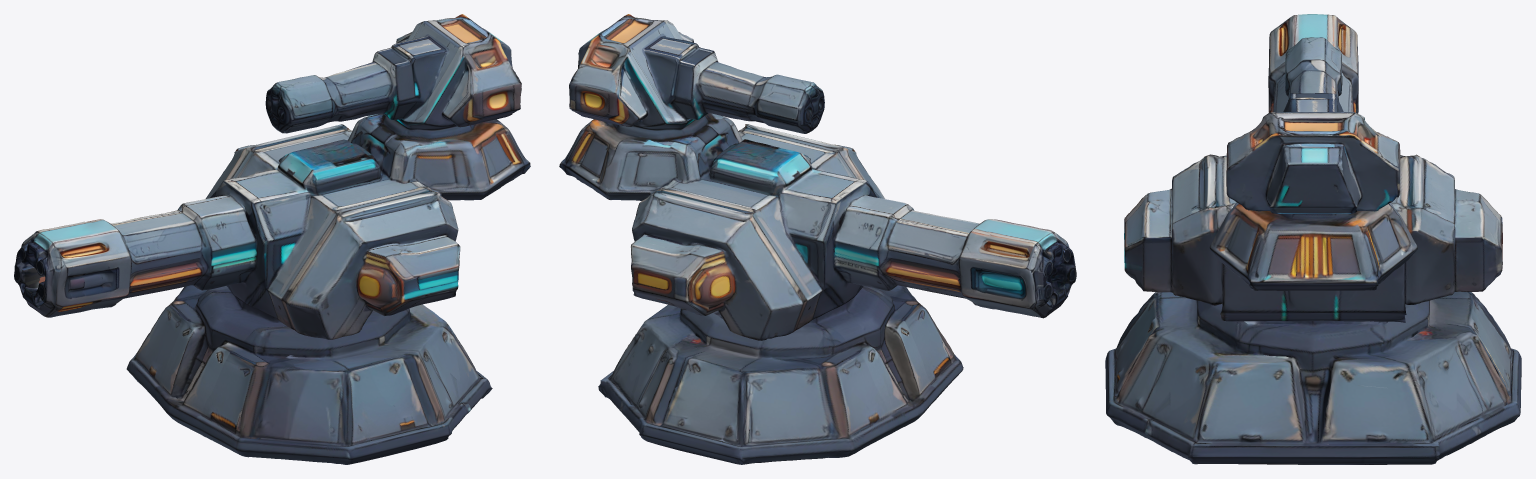
Rendered from basic_tower.glb.
The picture shows the model from 3 angles, left to right: view 1: azimuth 30°, elevation 25°; view 2: azimuth 150°, elevation 25°; view 3: azimuth 270°, elevation 25°; orthographic projection. The views are drawn at different scales.
Parts seen in each view (by area): view 1: geometry_0; view 2: geometry_0; view 3: geometry_0.
Part boxes in pixels (x1,y1,x2,y2): geometry_0: (14,14,530,464); geometry_0: (559,14,1076,464); geometry_0: (1105,14,1521,464).
Bounding box in the file's own units: 1.87 × 1.27 × 1.27.
Materials: 1 (1 with a texture image).
